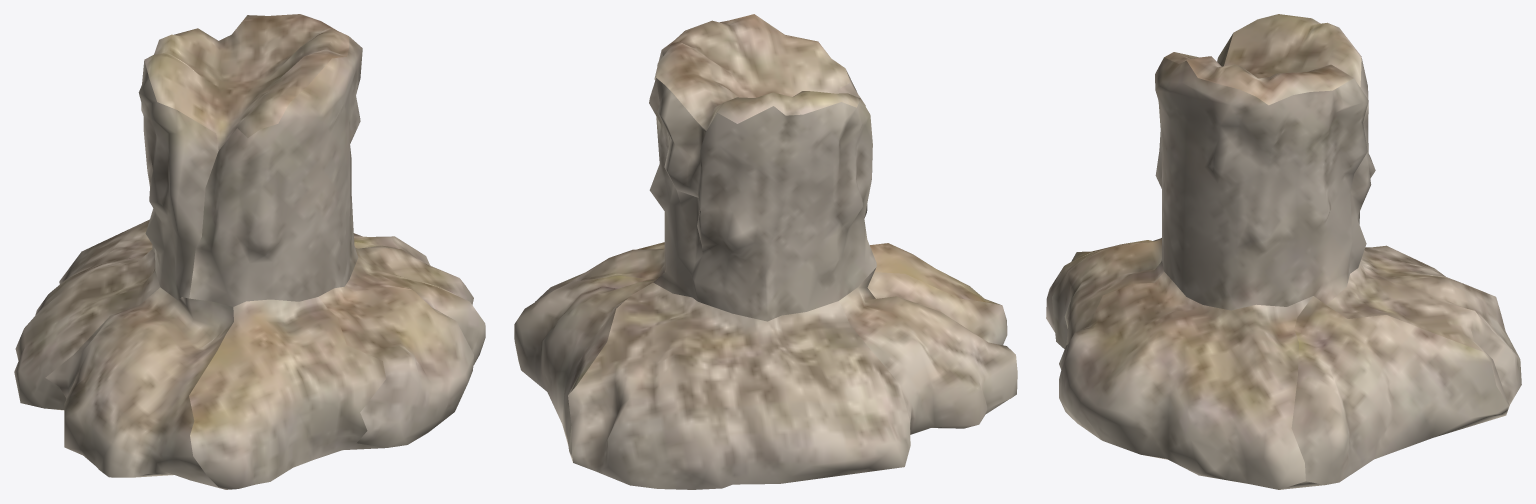
3 renders of one model, left to right at view 1: azimuth 30°, elevation 25°; view 2: azimuth 150°, elevation 25°; view 3: azimuth 270°, elevation 25°, orthographic.
Parts seen in each view (by area): view 1: SM_Candle02_LOD0; view 2: SM_Candle02_LOD0; view 3: SM_Candle02_LOD0.
Part boxes in pixels (x1=…): SM_Candle02_LOD0: x1=14, y1=14, x2=485, y2=489; SM_Candle02_LOD0: x1=514, y1=14, x2=1017, y2=489; SM_Candle02_LOD0: x1=1046, y1=14, x2=1521, y2=489.
Size of the model in its own units: 0.208 by 0.161 by 0.1998.
1 material, 1 textured.
